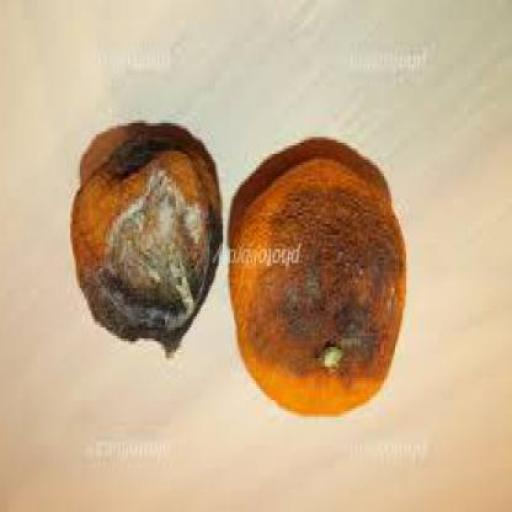biodegradable: (232, 162, 408, 423), (72, 129, 225, 361)
